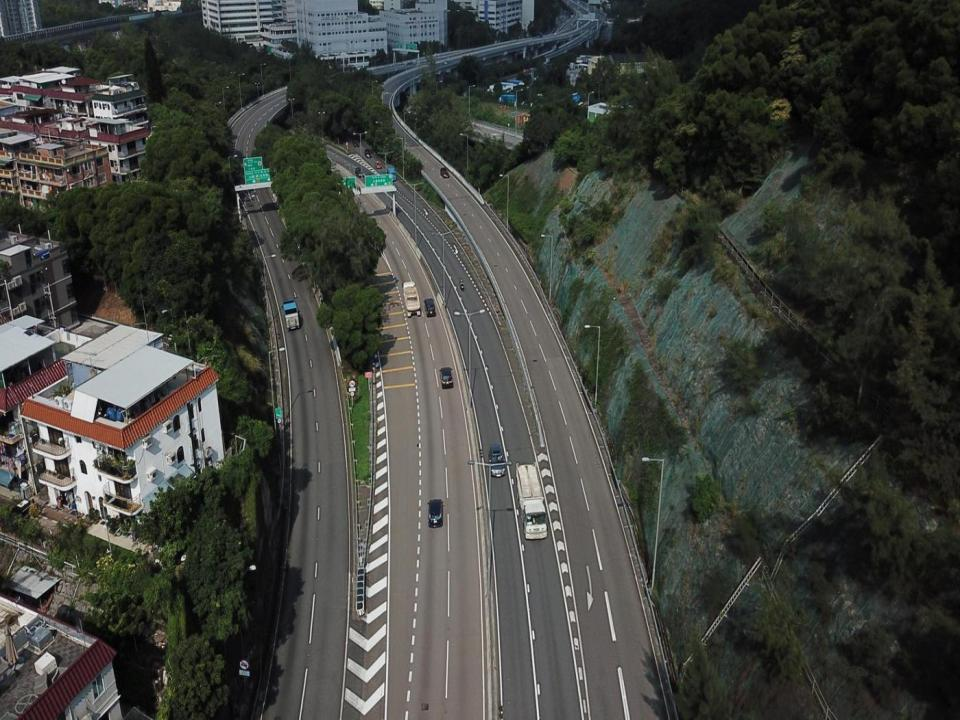bus: (384, 162, 396, 182)
car: (488, 443, 506, 478), (427, 498, 444, 528), (438, 367, 455, 390), (423, 297, 436, 318), (440, 166, 450, 178), (354, 166, 364, 178), (364, 148, 373, 158), (351, 137, 359, 148), (374, 160, 382, 169)
truck: (515, 461, 547, 540), (401, 280, 421, 318), (281, 298, 300, 332)
